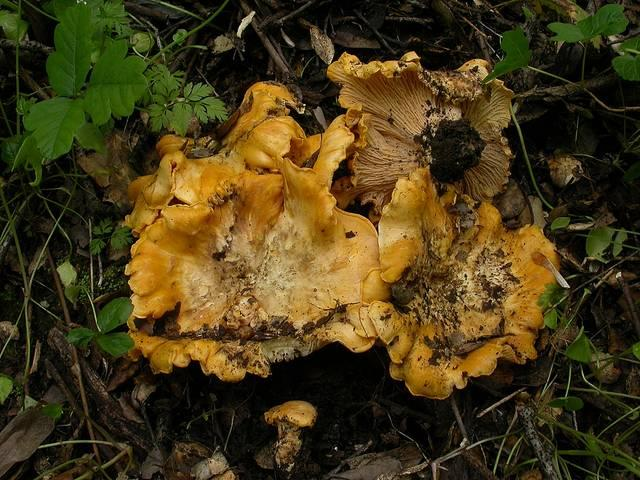edible_mushroom: (122, 80, 391, 383), (371, 167, 567, 400), (325, 49, 516, 218)
